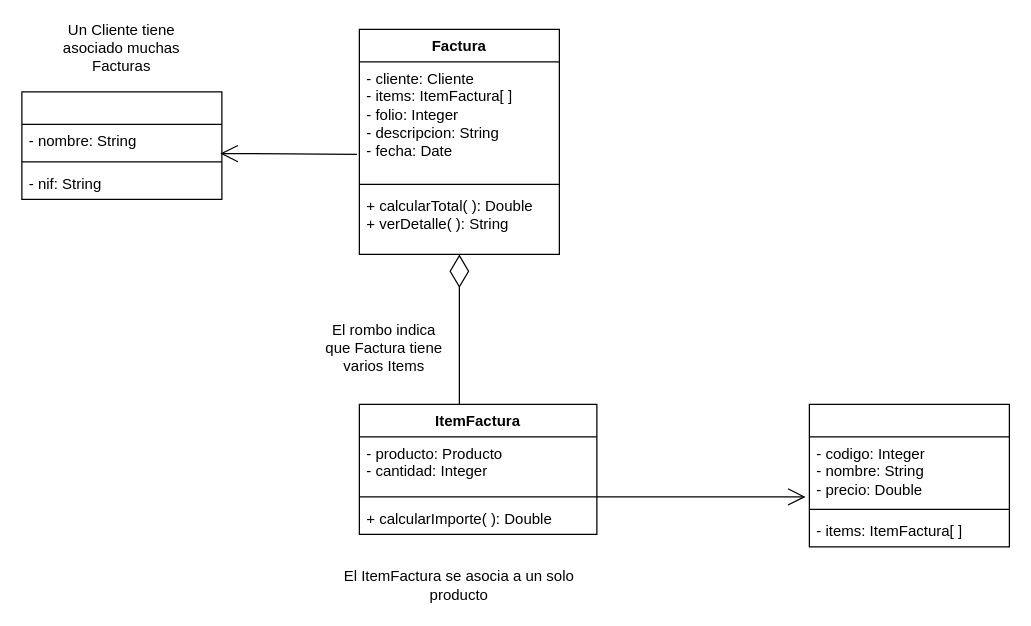
This 1031x626 diagram has some shape labels left out. The box of each missing label's shape, as (x1, y1, x2, y2) in pixels:
Cliente: (21, 91, 222, 199)
Producto: (808, 403, 1009, 547)
